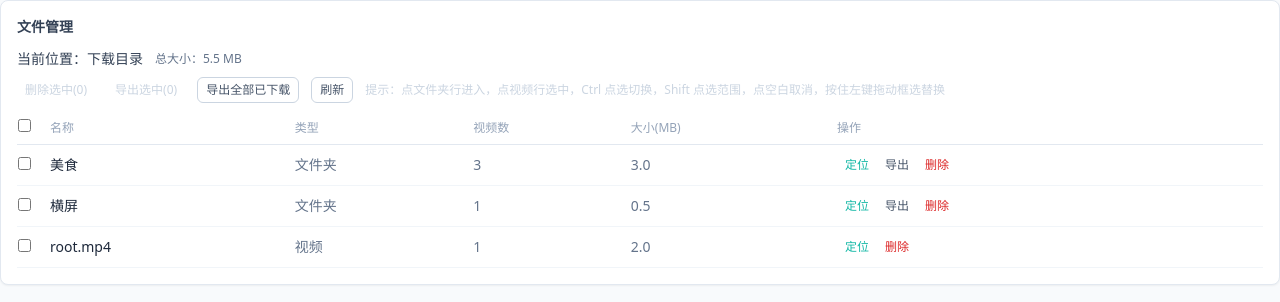
Test: FileManager（文件管理 tab） › Shift 点行范围选择（与其它表格语义一致）
Expected: the text "美食" is shown, 49,144 -> 294,186
Click the checkbox next to "美食".
click(24, 164)  # box 18,157 -> 31,170
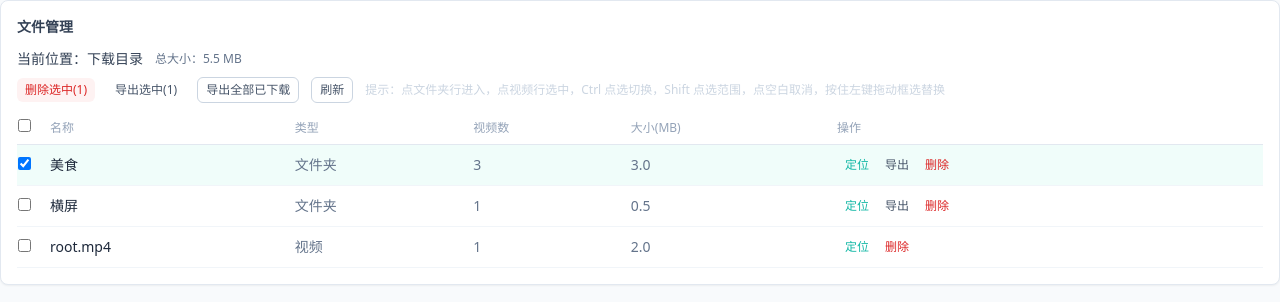
Click the text "root.mp4".
click(640, 247)  # box 17,226 -> 1263,268
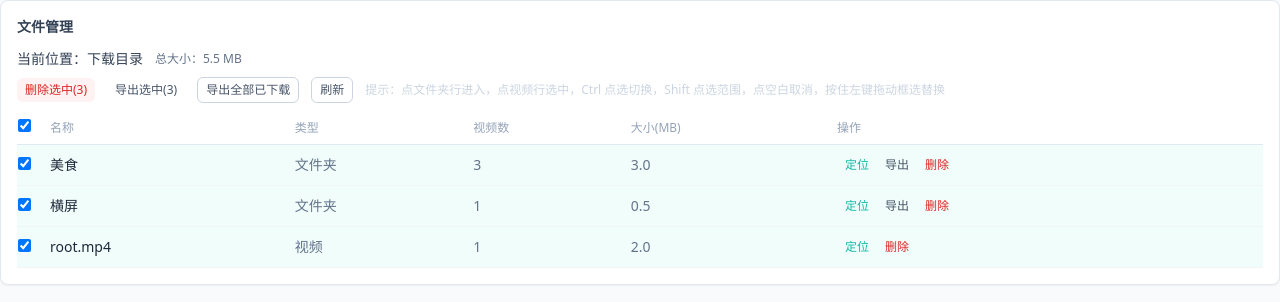
Result: the button "删除选中(3)" is shown at 17,78 -> 95,102
